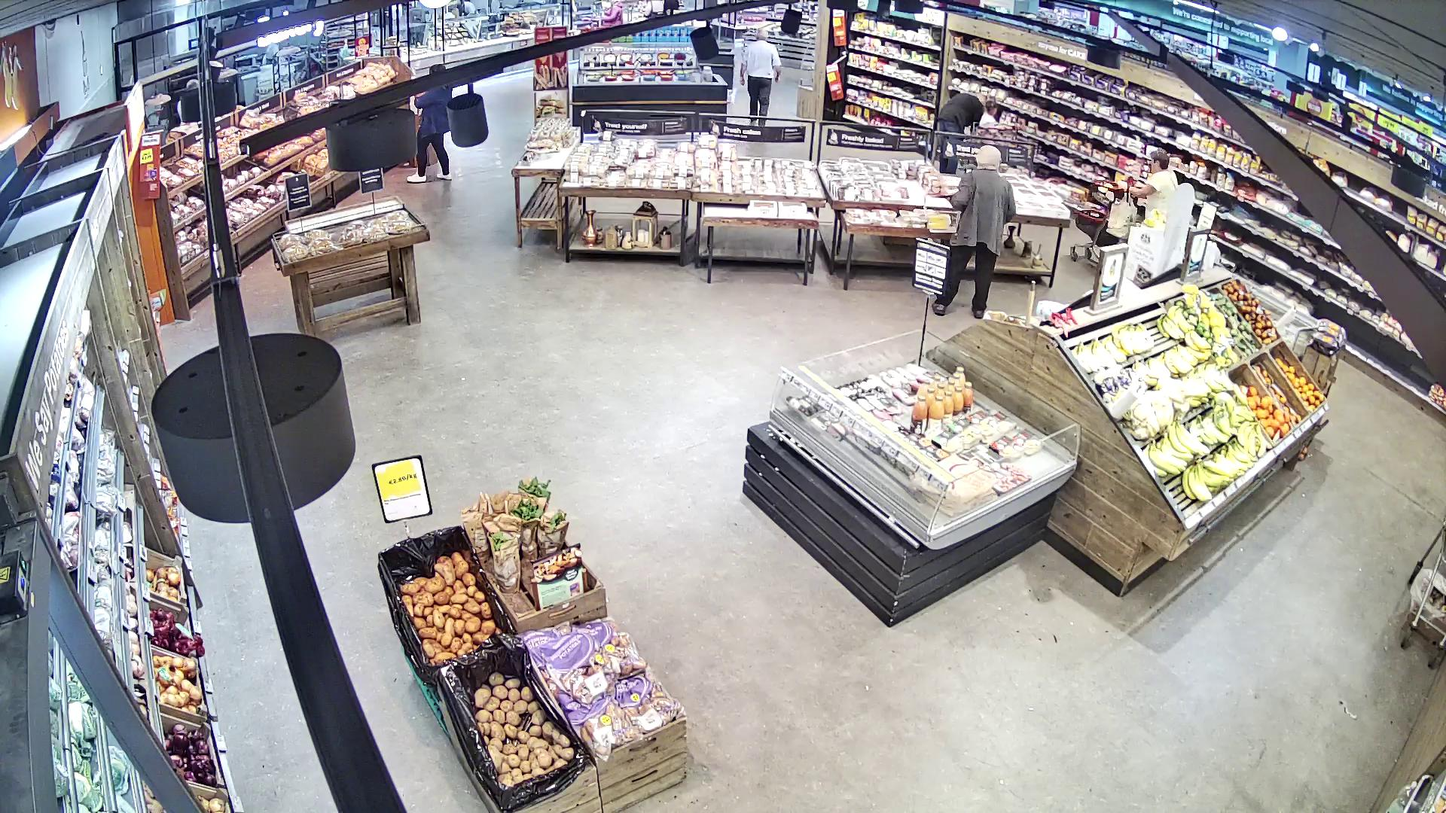filled-basket: (923, 193, 962, 233)
filled-shopping-bags: (1106, 199, 1137, 239)
filled-trolly: (1069, 180, 1127, 266)
person: (932, 145, 1016, 319), (1127, 149, 1178, 218)
person-with-basket-trolly-and-shopping-bag: (1069, 149, 1178, 267)
person-with-filled-basket-trolly: (924, 145, 1015, 320)
